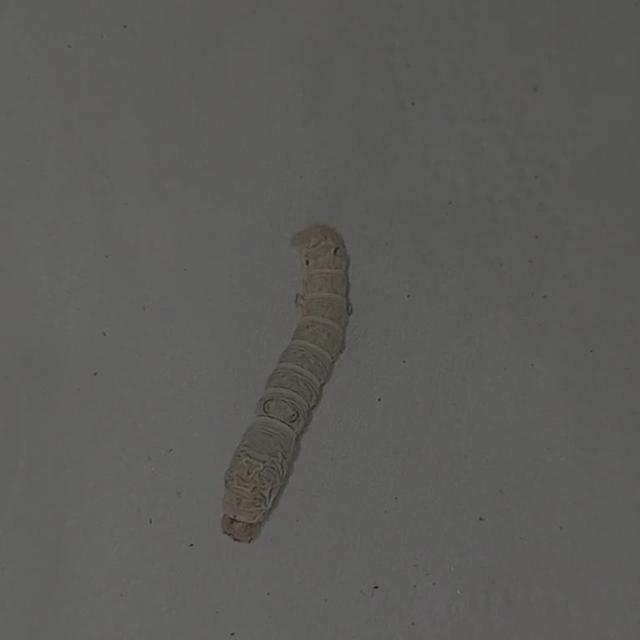Healthy: (195, 191, 371, 574)
